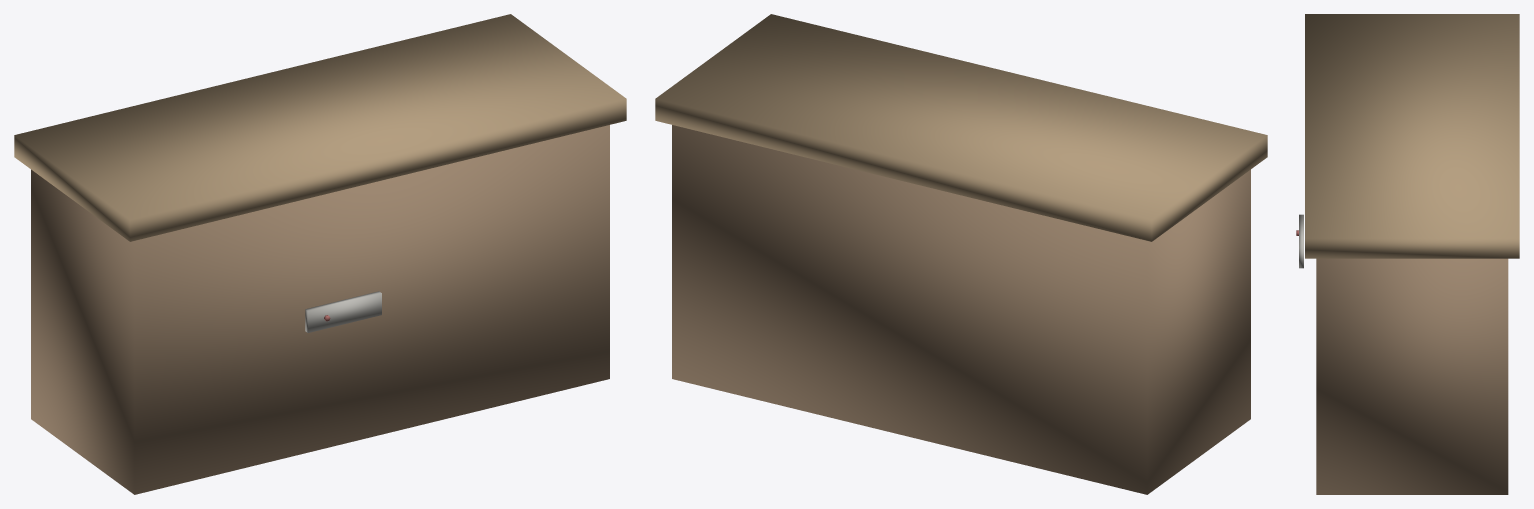
File: bagging_stand__reinforced.glb
3 renders of one model, left to right at view 1: azimuth 30°, elevation 25°; view 2: azimuth 150°, elevation 25°; view 3: azimuth 270°, elevation 25°, orthographic. The views are drawn at different scales.
Parts seen in each view (by area): view 1: world; view 2: world; view 3: world.
Boxes of the visible parts, x1,y1,x2,y2 form: world: (14, 14, 626, 494); world: (655, 14, 1267, 494); world: (1296, 14, 1519, 494).
Bounding box in the file's own units: 1.94 × 1.05 × 0.8147.
